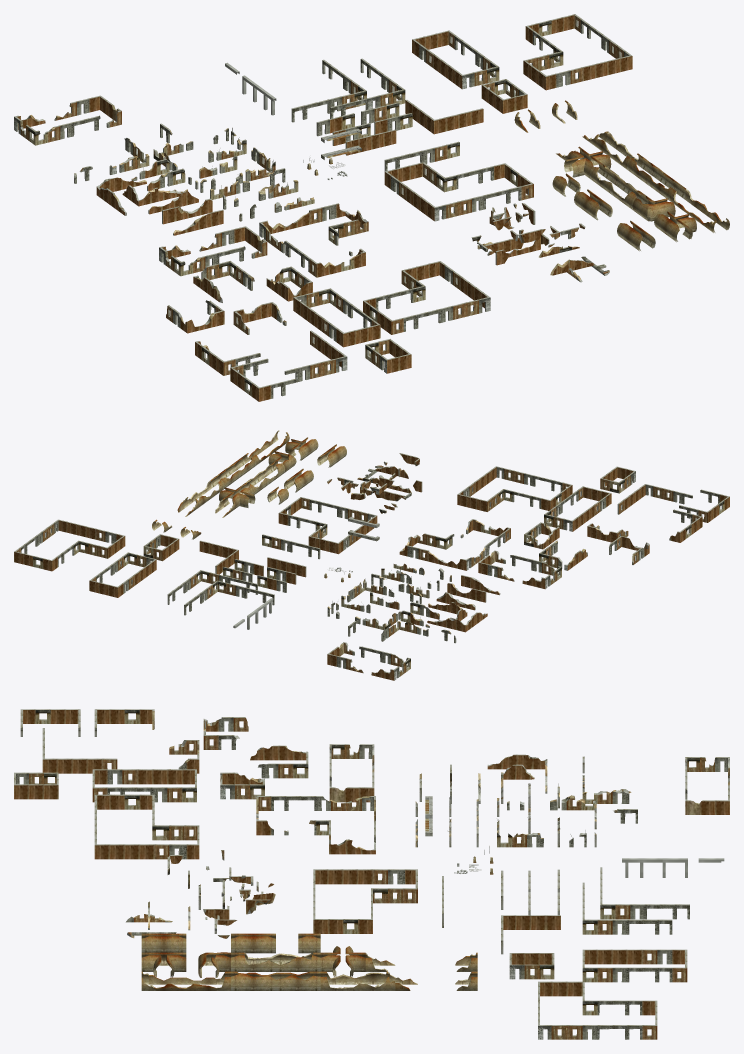
Rendered from destroyed-walls.glb.
3 renders of one model, top to bottom at view 1: azimuth 30°, elevation 25°; view 2: azimuth 150°, elevation 25°; view 3: azimuth 270°, elevation 25°, orthographic. The views are drawn at different scales.
Parts seen in each view (by area): view 1: destroyedWalls_UV1; view 2: destroyedWalls_UV1; view 3: destroyedWalls_UV1.
Part boxes in pixels (x1,y1,x2,y2): destroyedWalls_UV1: [14, 14, 729, 401]; destroyedWalls_UV1: [14, 430, 729, 680]; destroyedWalls_UV1: [14, 709, 729, 1039].
Bounding box in the file's own units: 201 × 20.11 × 192.
Materials: 1 (1 with a texture image).
